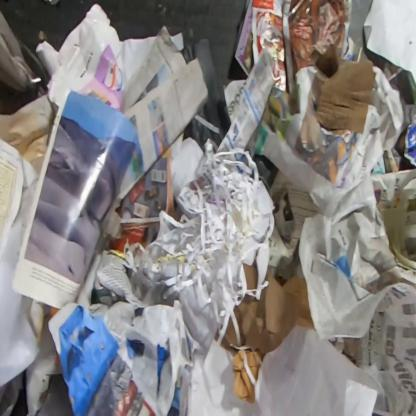cardboard: (234, 265, 316, 357), (314, 42, 376, 136), (230, 346, 263, 404), (221, 316, 238, 358), (242, 259, 257, 291)
